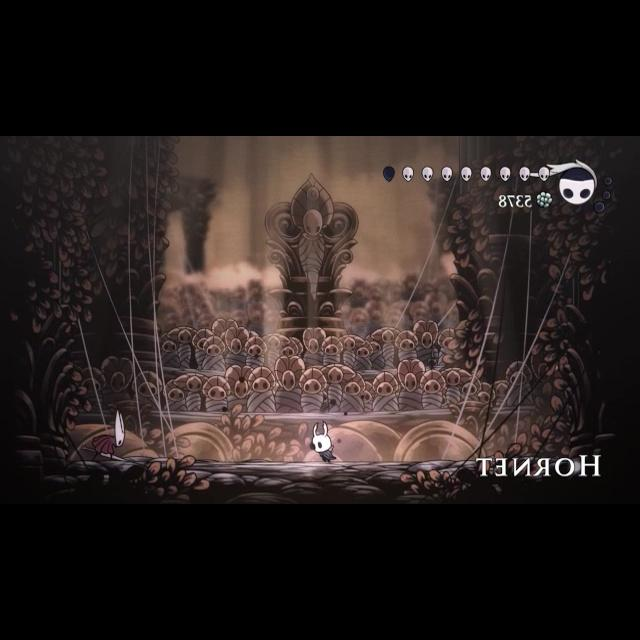Enemy: (78, 408, 132, 464)
Player: (304, 417, 342, 467)
